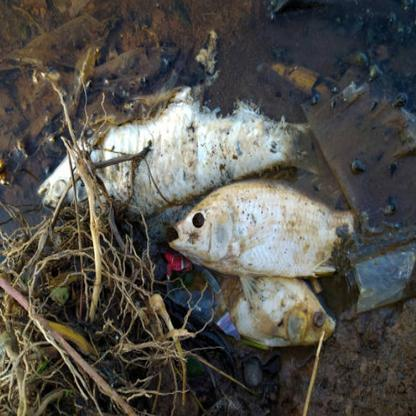deceased fish: (30, 84, 333, 195), (164, 181, 360, 279), (195, 270, 338, 350)
